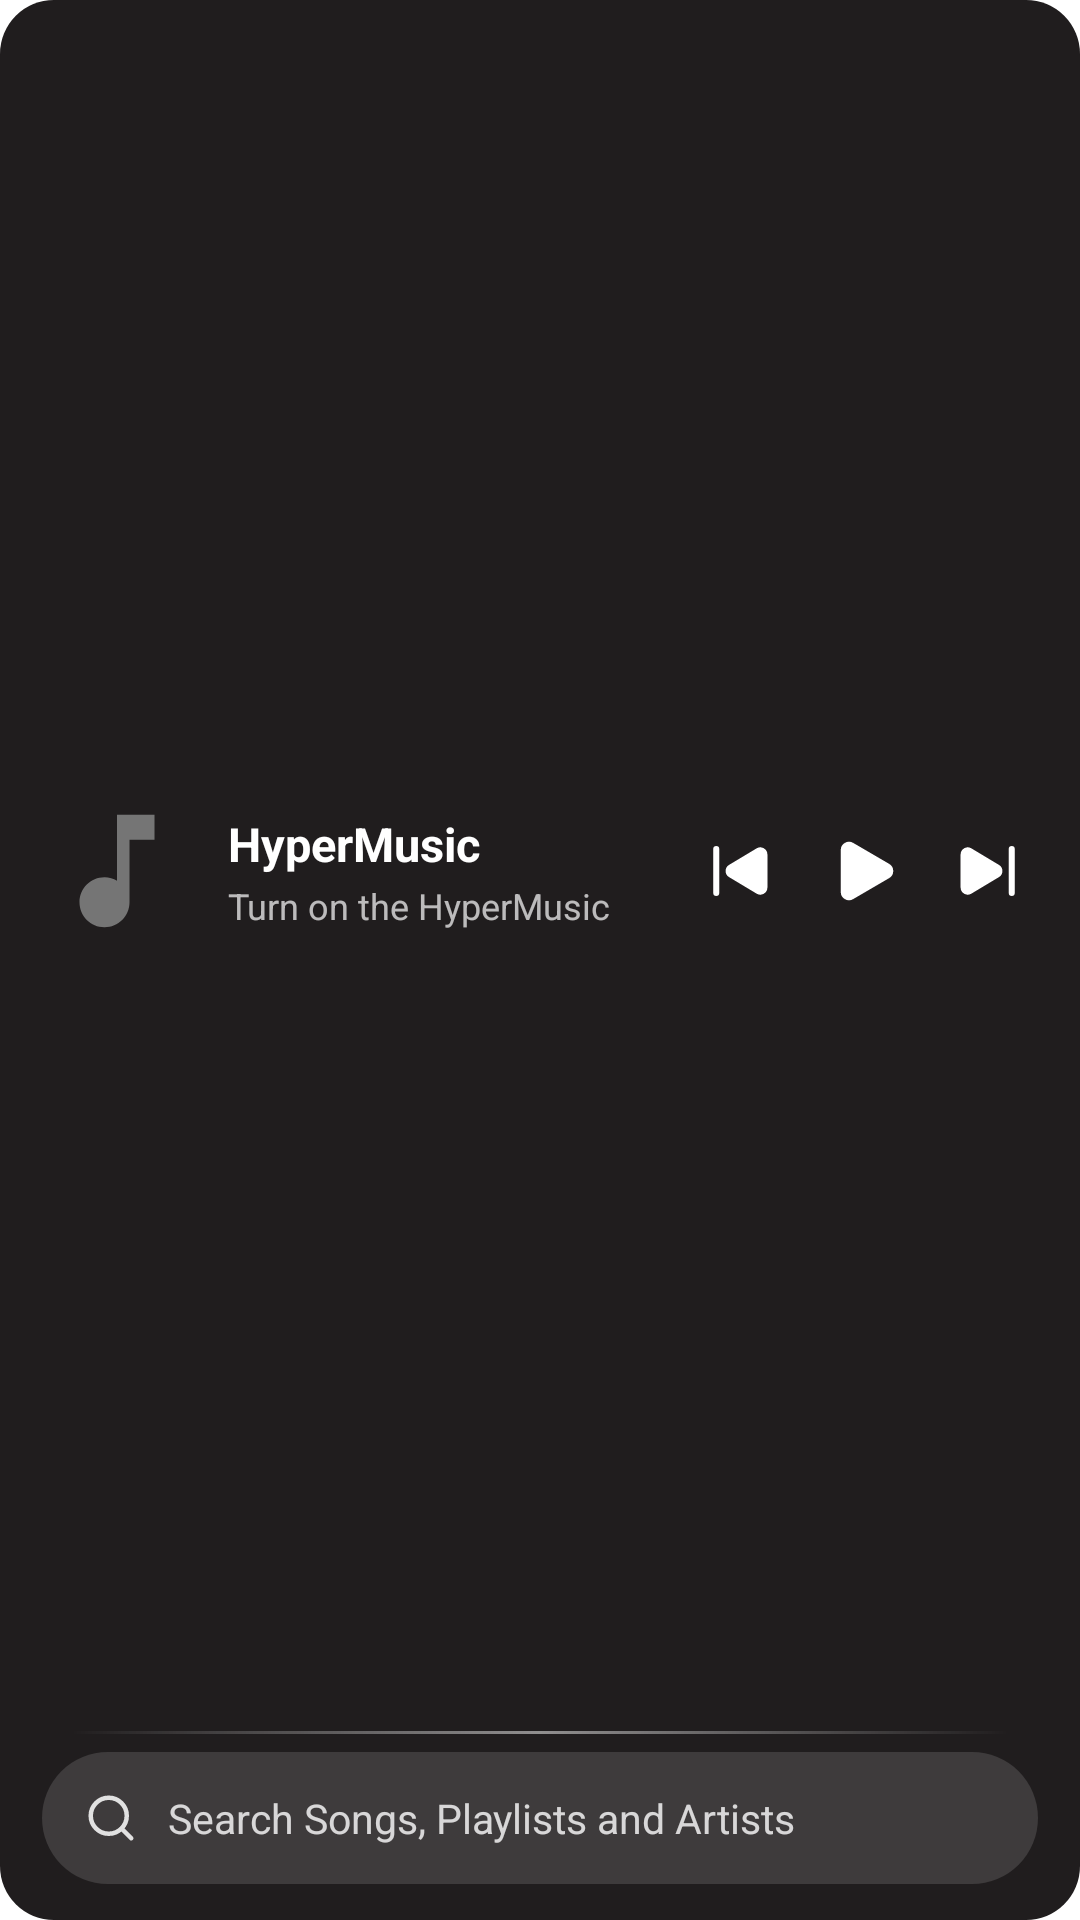

Where icons sit on this 1080*1920 app screen, as (x1, y1, x2, y2):
Next track: (960, 846, 1015, 896)
Play or pause: (840, 841, 894, 901)
Previous track: (713, 846, 768, 896)
Track artwork: (79, 815, 155, 927)
widget search: (88, 1795, 134, 1841)
